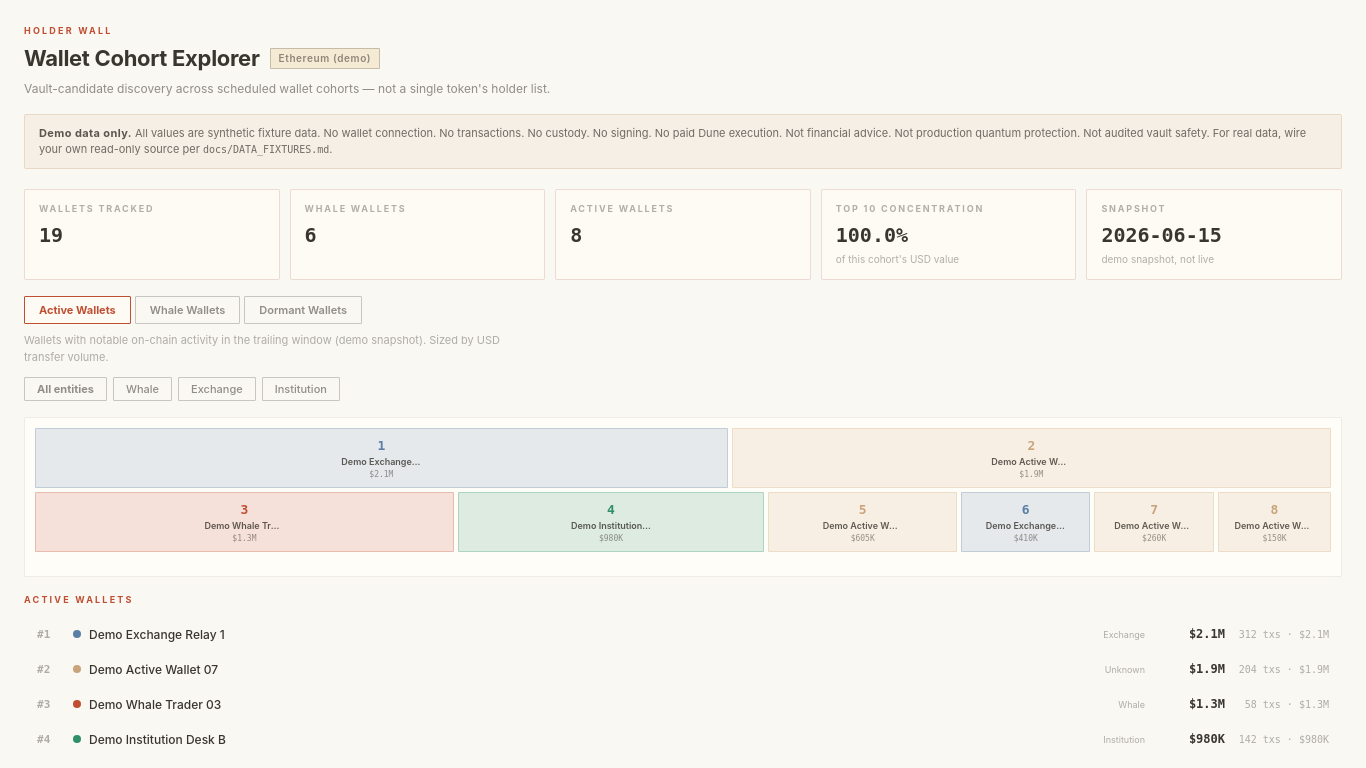
Holder Wall › shows wallet detail on leaderboard row click
This screenshot has width=1366, height=768.
Step 1. Click the 1st text "Demo Exchange Relay 1" → {"x": 381, "y": 462}, box [341, 456, 421, 468]
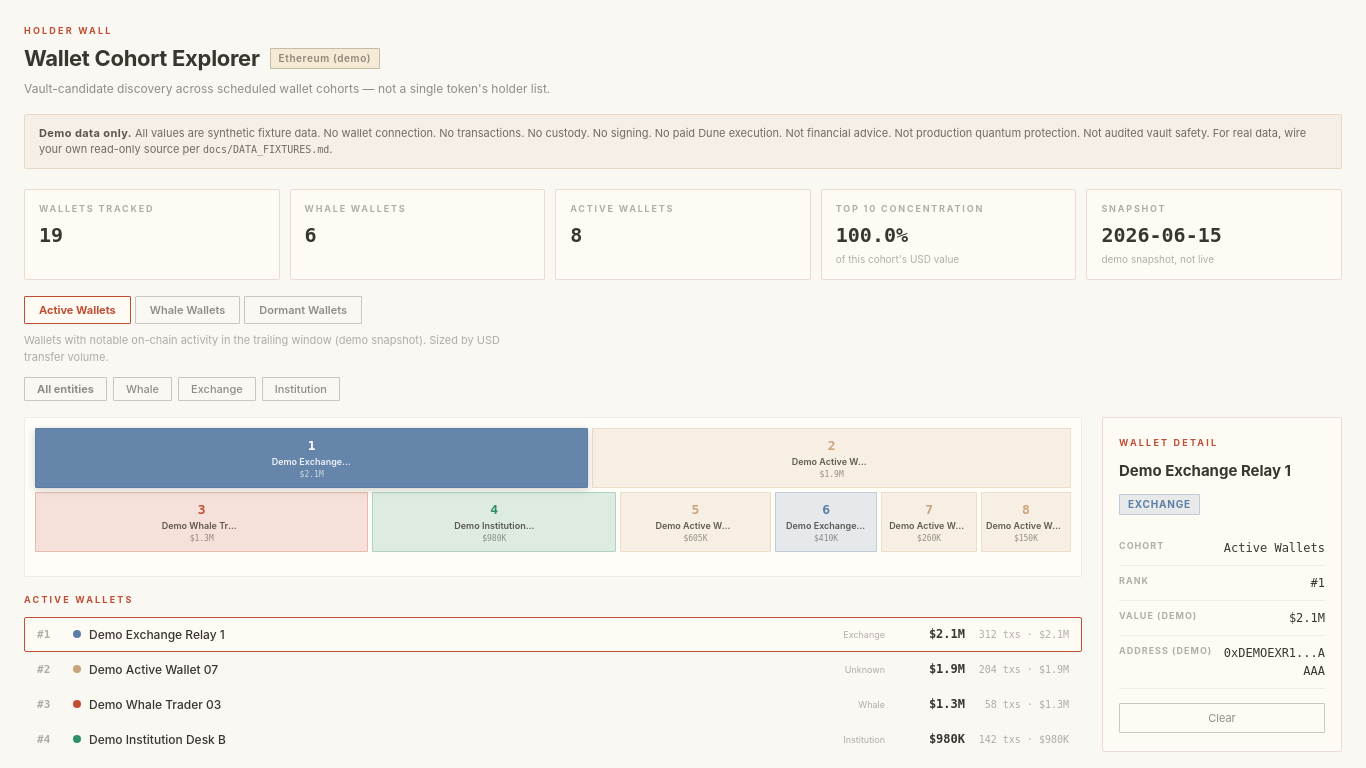
Expected: the element with test id "holder-detail" is shown, [1102, 417, 1342, 752]
